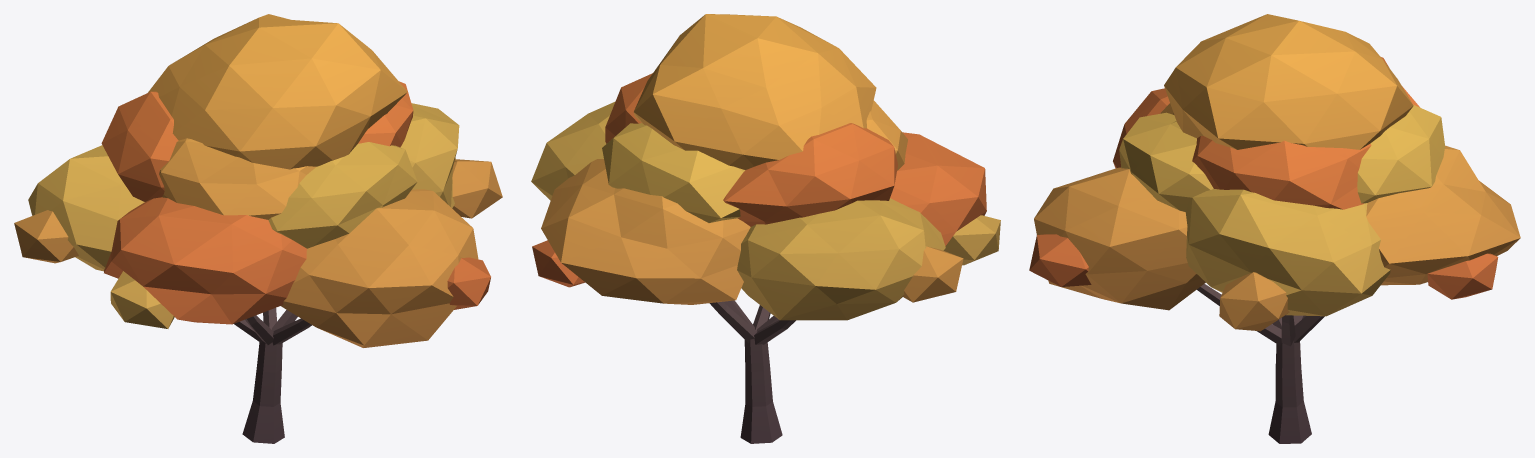
Rendered from maple_yellow.glb.
The picture shows the model from 3 angles, left to right: view 1: azimuth 30°, elevation 25°; view 2: azimuth 150°, elevation 25°; view 3: azimuth 270°, elevation 25°; orthographic projection. The views are drawn at different scales.
Parts seen in each view (by area): view 1: maple_yellow; view 2: maple_yellow; view 3: maple_yellow.
Part boxes in pixels (x1,y1,x2,y2): maple_yellow: [14, 14, 502, 443]; maple_yellow: [531, 14, 1000, 443]; maple_yellow: [1029, 14, 1520, 443].
Bounding box in the file's own units: 6.21 × 5.6 × 6.01.
